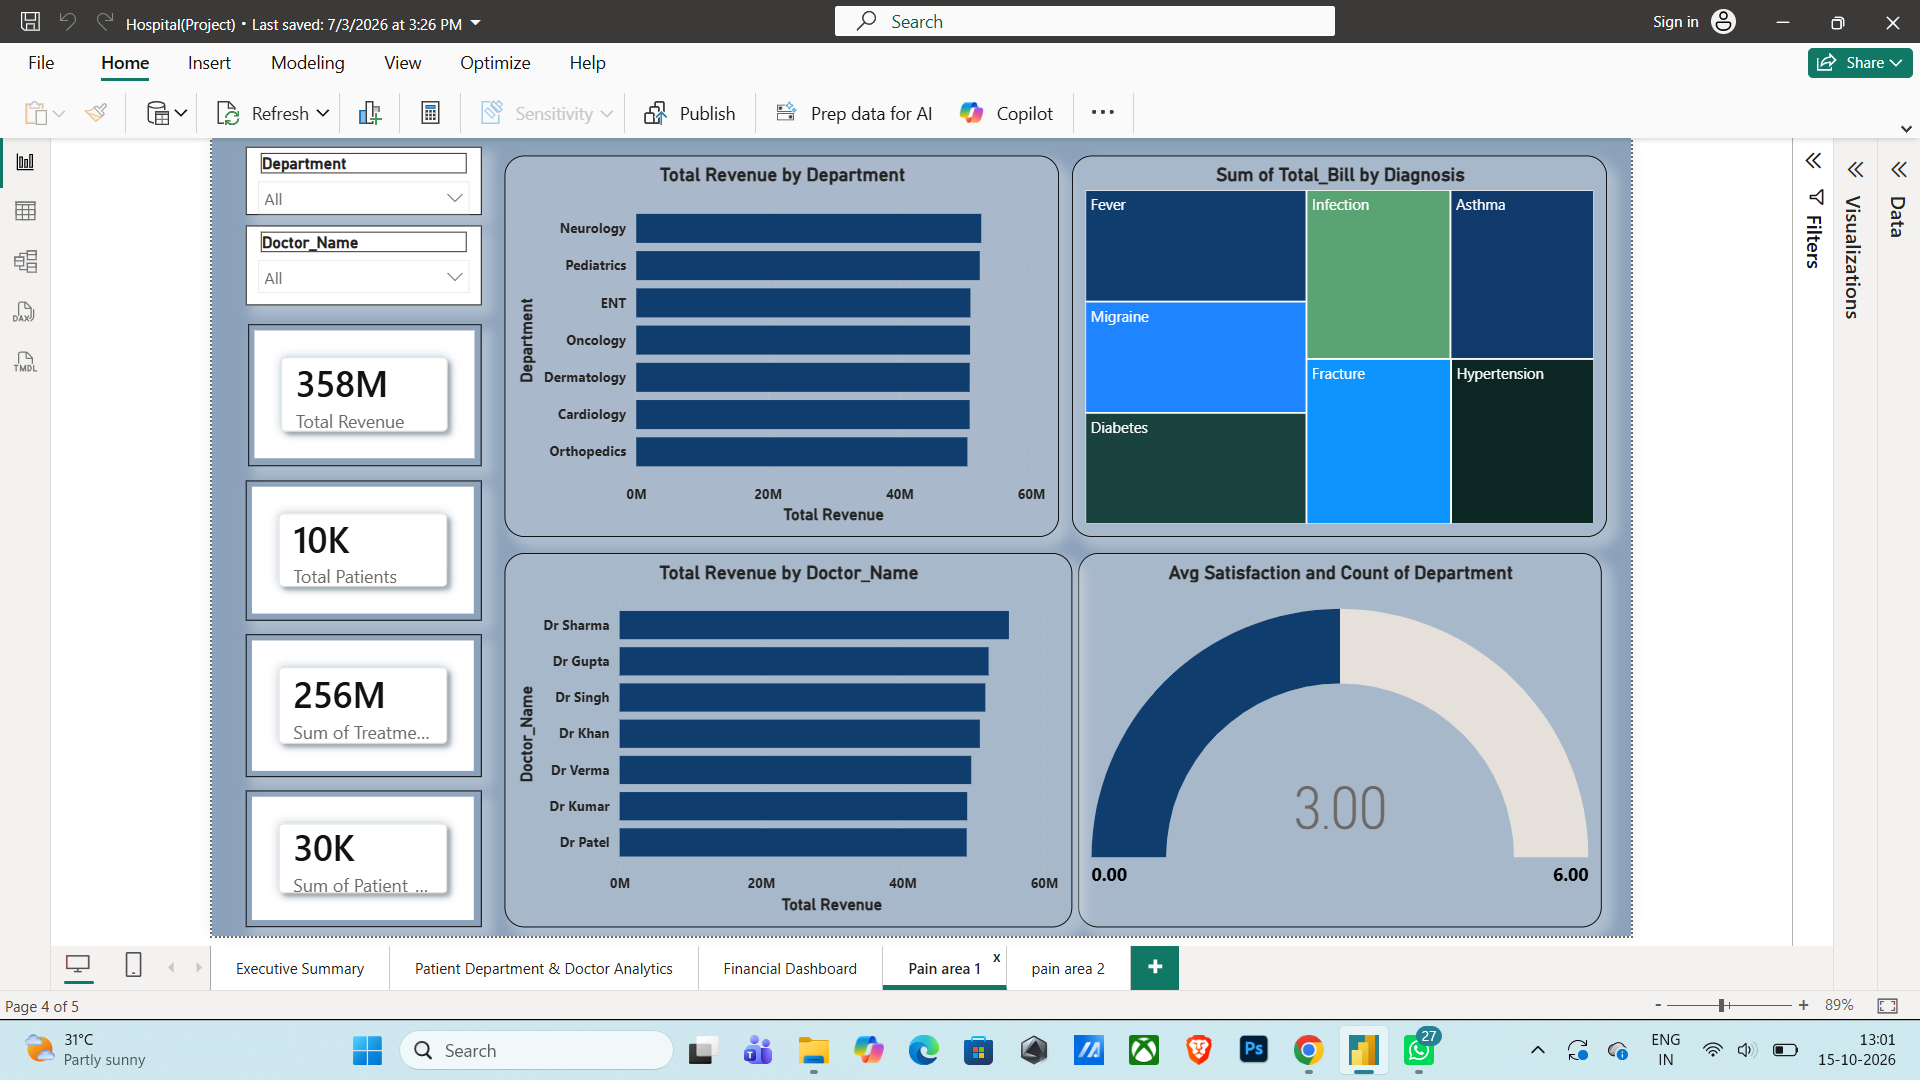

This screenshot's page, from the dashboard's own definition file:
{"tool":"powerbi","page":{"name":"Pain area 1","canvas":[1280,720],"ordinal":3},"visuals":[{"type":"cardVisual","fields":{"Data":["Hospital_Data.Total Revenue"]},"box":[32.6,167.4,210.5,127.9],"z":0},{"type":"cardVisual","fields":{"Data":["Hospital_Data.Total Patients"]},"box":[30.2,309.3,212.8,126.7],"z":1000},{"type":"cardVisual","fields":{"Data":["Sum(Hospital_Data.Treatment_Cost)"]},"box":[30.2,447.7,212.8,129.1],"z":2000},{"type":"cardVisual","fields":{"Data":["Sum(Hospital_Data.Patient_Satisfaction)"]},"box":[30.2,588.4,212.8,123.3],"z":3000},{"type":"barChart","fields":{"Category":["Hospital_Data.Department"],"Y":["Hospital_Data.Total Revenue"]},"box":[264,16.3,500,344.2],"z":4000},{"type":"treemap","fields":{"Group":["Hospital_Data.Diagnosis"],"Values":["Sum(Hospital_Data.Total_Bill)"]},"box":[775.6,16.3,482.6,344.2],"z":5000},{"type":"gauge","fields":{"TargetValue":["CountNonNull(Hospital_Data.Department)"],"Y":["Hospital_Data.Avg Satisfaction"]},"box":[781.4,374.4,472.1,337.2],"z":6000},{"type":"clusteredBarChart","fields":{"Category":["Hospital_Data.Doctor_Name"],"Y":["Hospital_Data.Total Revenue"]},"box":[264,374.4,511.6,337.2],"z":7000},{"type":"slicer","fields":{"Values":["Hospital_Data.Department"]},"box":[30.2,8.1,212.8,61.6],"z":8000},{"type":"slicer","fields":{"Values":["Hospital_Data.Doctor_Name"]},"box":[30.2,79.1,212.8,72.1],"z":9000}]}

Visuals, with their boxes on the page's 1280x720 design canvas (x1, y1, x2, y2). These are canvas units, not pixel positions in the 1920x1080 screenshot, which may show the page scaled, cropped or inside an application window:
cardVisual - Hospital_Data.Total Revenue: [x1=33, y1=167, x2=243, y2=295]
cardVisual - Hospital_Data.Total Patients: [x1=30, y1=309, x2=243, y2=436]
cardVisual - Sum(Hospital_Data.Treatment_Cost): [x1=30, y1=448, x2=243, y2=577]
cardVisual - Sum(Hospital_Data.Patient_Satisfaction): [x1=30, y1=588, x2=243, y2=712]
barChart - Hospital_Data.Department x Hospital_Data.Total Revenue: [x1=264, y1=16, x2=764, y2=360]
treemap - Hospital_Data.Diagnosis x Sum(Hospital_Data.Total_Bill): [x1=776, y1=16, x2=1258, y2=360]
gauge - CountNonNull(Hospital_Data.Department) x Hospital_Data.Avg Satisfaction: [x1=781, y1=374, x2=1254, y2=712]
clusteredBarChart - Hospital_Data.Doctor_Name x Hospital_Data.Total Revenue: [x1=264, y1=374, x2=776, y2=712]
slicer - Hospital_Data.Department: [x1=30, y1=8, x2=243, y2=70]
slicer - Hospital_Data.Doctor_Name: [x1=30, y1=79, x2=243, y2=151]
